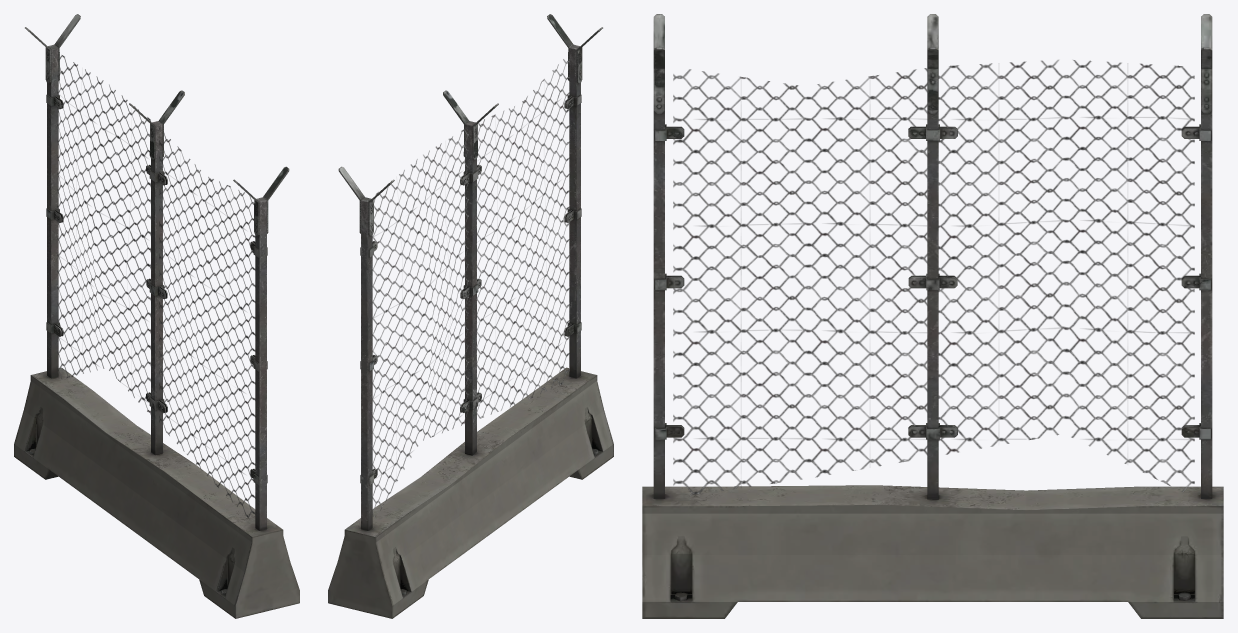
Rendered from barbed-fence--3.gltf.
The picture shows the model from 3 angles, left to right: view 1: azimuth 30°, elevation 25°; view 2: azimuth 150°, elevation 25°; view 3: azimuth 270°, elevation 25°; orthographic projection. The views are drawn at different scales.
Visible parts, largest first — view 1: Cube.041; view 2: Cube.041; view 3: Cube.041.
Boxes of the visible parts, box(x1,y1,x2,y2) form: Cube.041: box(14, 14, 299, 618); Cube.041: box(328, 14, 613, 618); Cube.041: box(642, 14, 1223, 618).
Bounding box in the file's own units: 0.3891 × 2.5 × 2.32.
2 materials, 2 textured.
